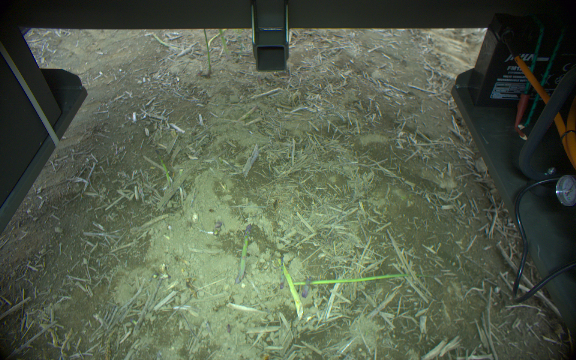aspa: (280, 271, 444, 286), (276, 258, 308, 321), (235, 222, 255, 285), (147, 147, 175, 190), (200, 29, 215, 78), (214, 29, 232, 59), (300, 277, 314, 300), (211, 217, 224, 238)
